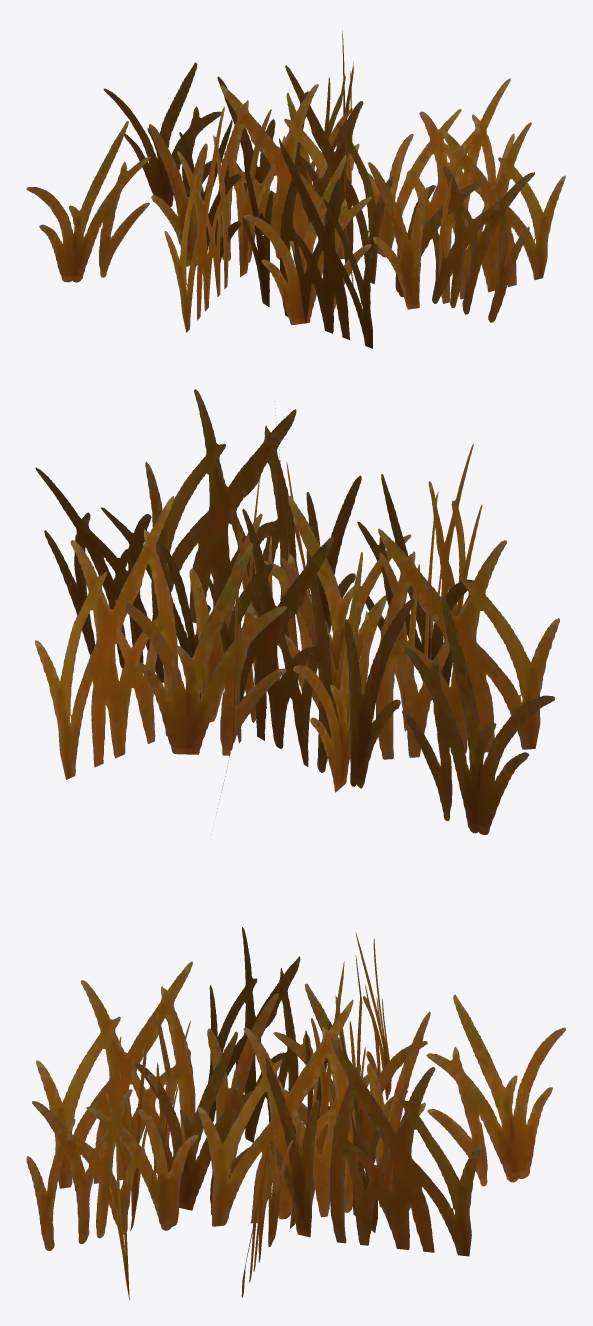
The picture shows the model from 3 angles, top to bottom: view 1: azimuth 30°, elevation 25°; view 2: azimuth 150°, elevation 25°; view 3: azimuth 270°, elevation 25°; orthographic projection. The views are drawn at different scales.
Visible parts, largest first — view 1: SM_HL_Grass_Low_01_LOD0; view 2: SM_HL_Grass_Low_01_LOD0; view 3: SM_HL_Grass_Low_01_LOD0.
Boxes of the visible parts, <box> form: SM_HL_Grass_Low_01_LOD0: <box>26,31,565,348</box>; SM_HL_Grass_Low_01_LOD0: <box>35,389,559,834</box>; SM_HL_Grass_Low_01_LOD0: <box>26,927,565,1300</box>.
Bounding box in the file's own units: 0.5801 × 0.222 × 0.5187.
Materials: 1 (1 with a texture image).
